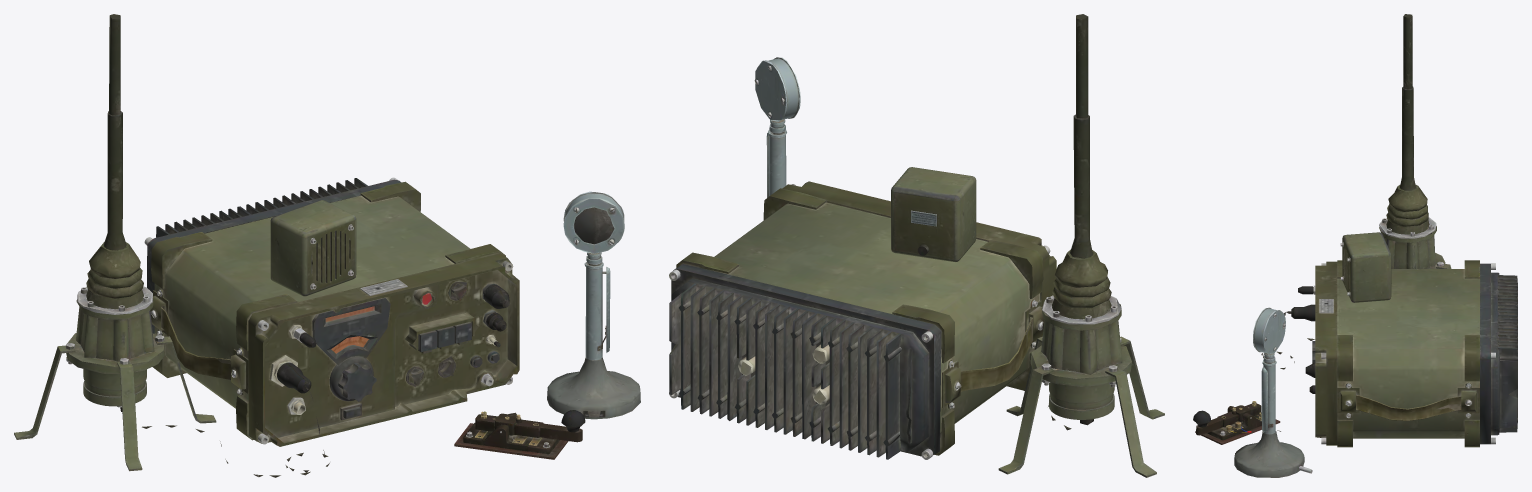
The model's file is vintage_radio_transceiver.glb.
3 views of the same model, side by side, from view 1: azimuth 30°, elevation 25°; view 2: azimuth 150°, elevation 25°; view 3: azimuth 270°, elevation 25° (orthographic). The views are drawn at different scales.
Visible parts, largest first — view 1: vintage_radio_transceiver, vintage_radio_transceiver_antenna, vintage_radio_transceiver_microphone, vintage_radio_transceiver_speaker, vintage_radio_transceiver_morse_key_base, vintage_radio_transceiver_morse_key_arm, vintage_radio_transceiver_dial, vintage_radio_transceiver_antenna_plug_a; view 2: vintage_radio_transceiver, vintage_radio_transceiver_antenna, vintage_radio_transceiver_speaker, vintage_radio_transceiver_microphone; view 3: vintage_radio_transceiver, vintage_radio_transceiver_antenna, vintage_radio_transceiver_microphone, vintage_radio_transceiver_speaker, vintage_radio_transceiver_morse_key_arm, vintage_radio_transceiver_morse_key_base.
Boxes of the visible parts, bbox=[...] form: vintage_radio_transceiver: bbox=[144, 177, 519, 446]; vintage_radio_transceiver_antenna: bbox=[14, 14, 216, 471]; vintage_radio_transceiver_microphone: bbox=[547, 191, 640, 419]; vintage_radio_transceiver_speaker: bbox=[270, 200, 356, 296]; vintage_radio_transceiver_morse_key_base: bbox=[454, 412, 568, 459]; vintage_radio_transceiver_morse_key_arm: bbox=[475, 410, 585, 442]; vintage_radio_transceiver_dial: bbox=[329, 336, 376, 401]; vintage_radio_transceiver_antenna_plug_a: bbox=[277, 362, 311, 393]; vintage_radio_transceiver: bbox=[669, 181, 1056, 459]; vintage_radio_transceiver_antenna: bbox=[998, 14, 1164, 477]; vintage_radio_transceiver_speaker: bbox=[891, 167, 976, 261]; vintage_radio_transceiver_microphone: bbox=[754, 57, 800, 197]; vintage_radio_transceiver: bbox=[1315, 260, 1517, 447]; vintage_radio_transceiver_antenna: bbox=[1379, 14, 1451, 268]; vintage_radio_transceiver_microphone: bbox=[1234, 307, 1312, 477]; vintage_radio_transceiver_speaker: bbox=[1340, 232, 1391, 302]; vintage_radio_transceiver_morse_key_arm: bbox=[1193, 401, 1261, 435]; vintage_radio_transceiver_morse_key_base: bbox=[1195, 406, 1280, 444].
Size of the model in its own units: 0.5637 by 0.4344 by 0.4131.
Materials: 2 (2 with a texture image).
